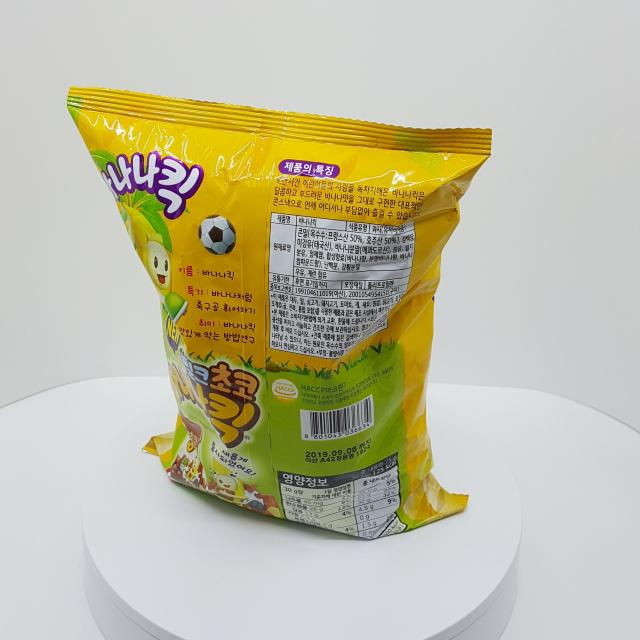-75G: (68, 87, 493, 541)
